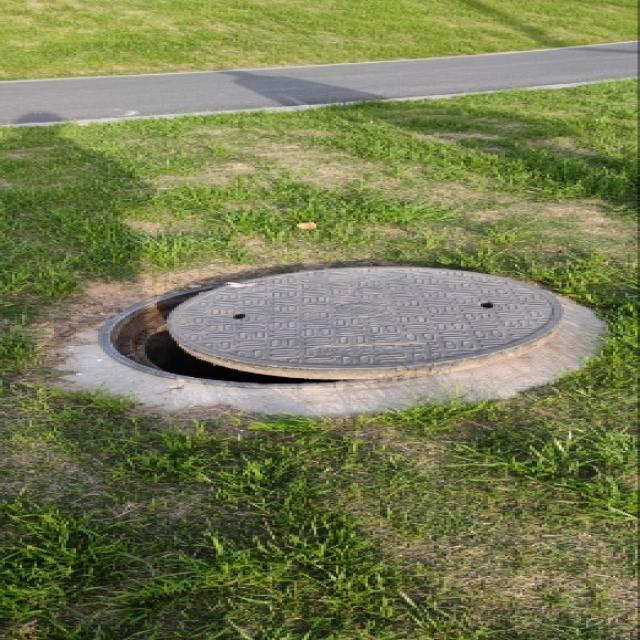Lose: (56, 258, 614, 410)
